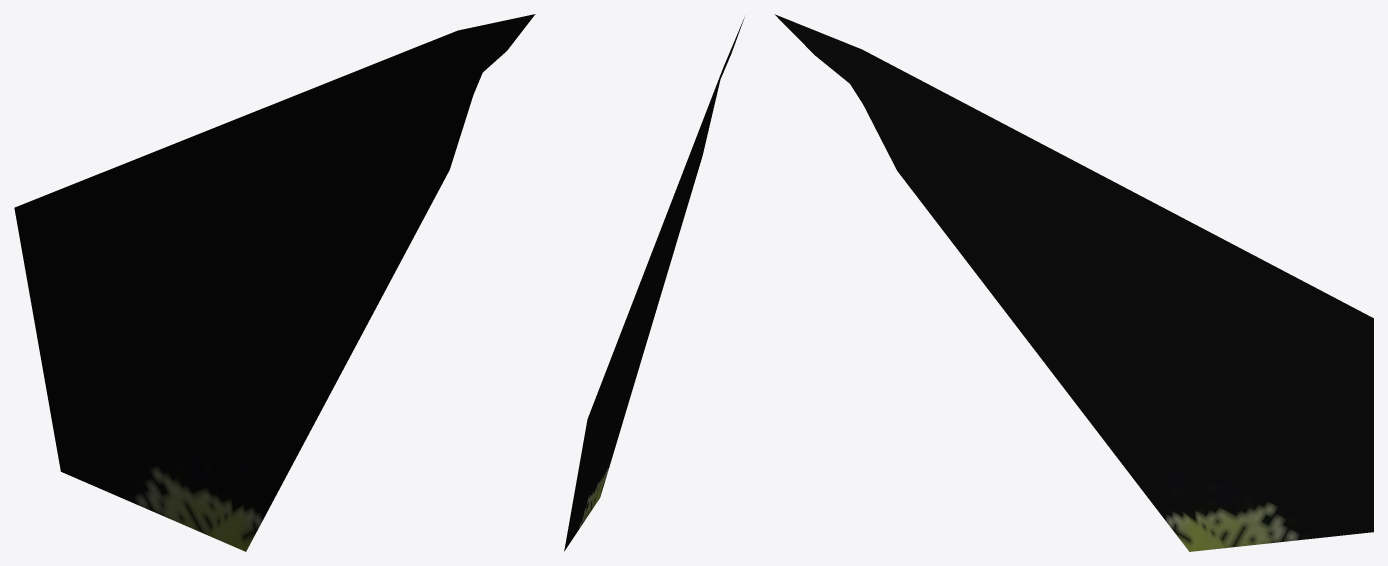
3 views of the same model, side by side, from view 1: azimuth 30°, elevation 25°; view 2: azimuth 150°, elevation 25°; view 3: azimuth 270°, elevation 25° (orthographic). The views are drawn at different scales.
Size of the model in its own units: 0.2835 by 1.97 by 1.99.
1 material, 1 textured.
